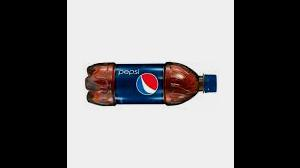Plastic: (84, 62, 218, 107)
